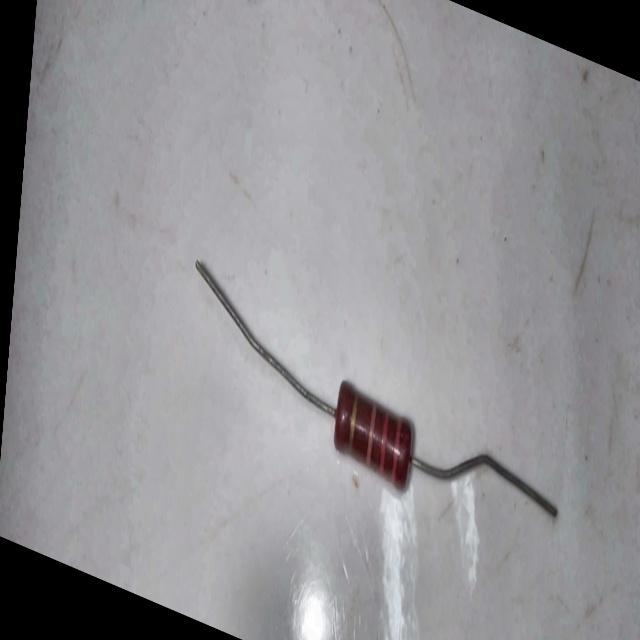Carbon Resistor: (170, 227, 570, 578)
